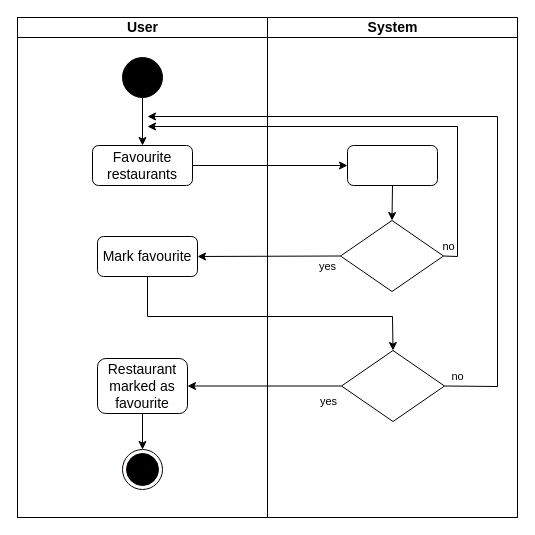
Some shapes in this 535 by 535 pixel diagram are drawn without their labels. Each missing label, with the centre of its shape:
find restaurant: pixel 392 165
if found: pixel 392 256
if mark: pixel 392 386
